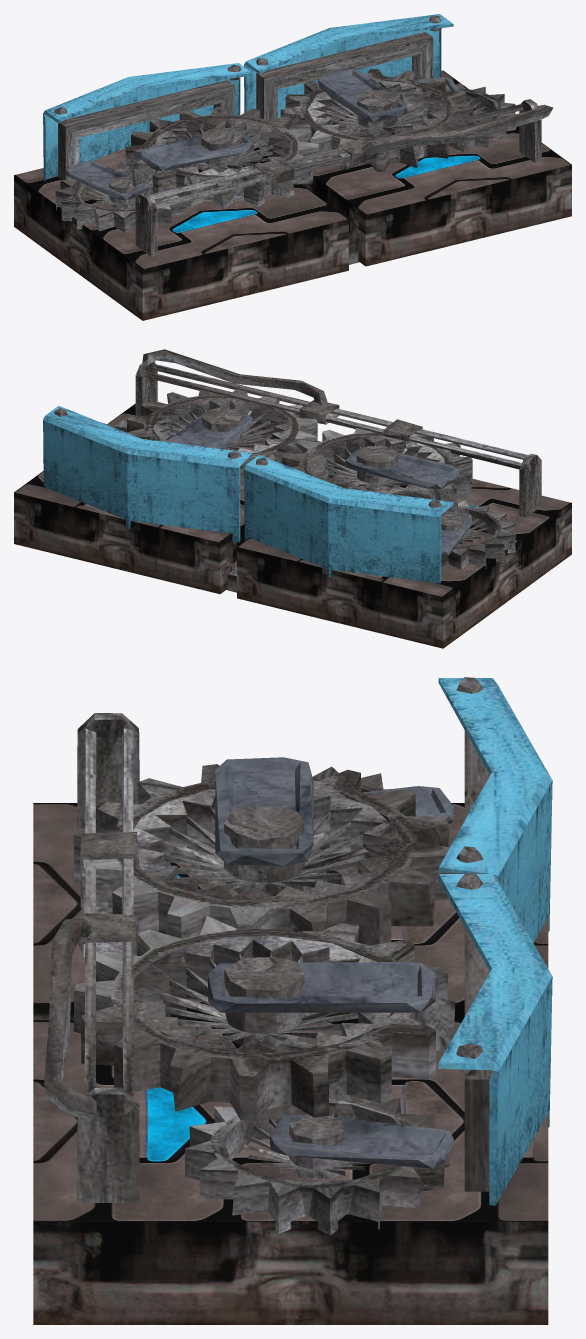
The model's file is express-splitter.glb.
The picture shows the model from 3 angles, top to bottom: view 1: azimuth 30°, elevation 25°; view 2: azimuth 150°, elevation 25°; view 3: azimuth 270°, elevation 25°; orthographic projection. The views are drawn at different scales.
Parts seen in each view (by area): view 1: body, anim_spin_gear, anim_spin_gear.001, anim_spin_gear.002, anim_spin_gear.003; view 2: body, anim_spin_gear.001, anim_spin_gear, anim_spin_gear.002; view 3: body, anim_spin_gear.001, anim_spin_gear, anim_spin_gear.003, anim_spin_gear.002.
Boxes of the visible parts, <box> form: body: <box>14,14,571,320</box>; anim_spin_gear: <box>125,106,318,209</box>; anim_spin_gear.001: <box>280,69,473,171</box>; anim_spin_gear.002: <box>55,162,185,232</box>; anim_spin_gear.003: <box>393,82,515,152</box>; body: <box>14,349,571,648</box>; anim_spin_gear.001: <box>127,389,317,488</box>; anim_spin_gear: <box>282,428,472,511</box>; anim_spin_gear.002: <box>441,500,516,569</box>; body: <box>33,677,552,1324</box>; anim_spin_gear.001: <box>73,912,455,1120</box>; anim_spin_gear: <box>73,764,453,945</box>; anim_spin_gear.003: <box>185,1094,449,1235</box>; anim_spin_gear.002: <box>187,766,449,898</box>.
Bounding box in the file's own units: 1.99 × 0.5507 × 1.01.
Materials: 3 (3 with a texture image).
